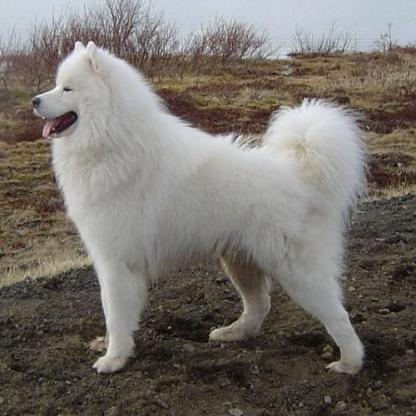Samoyed: (25, 36, 372, 378)
